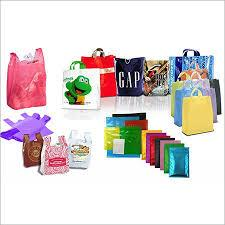Plastic bag: (1, 36, 222, 190)
